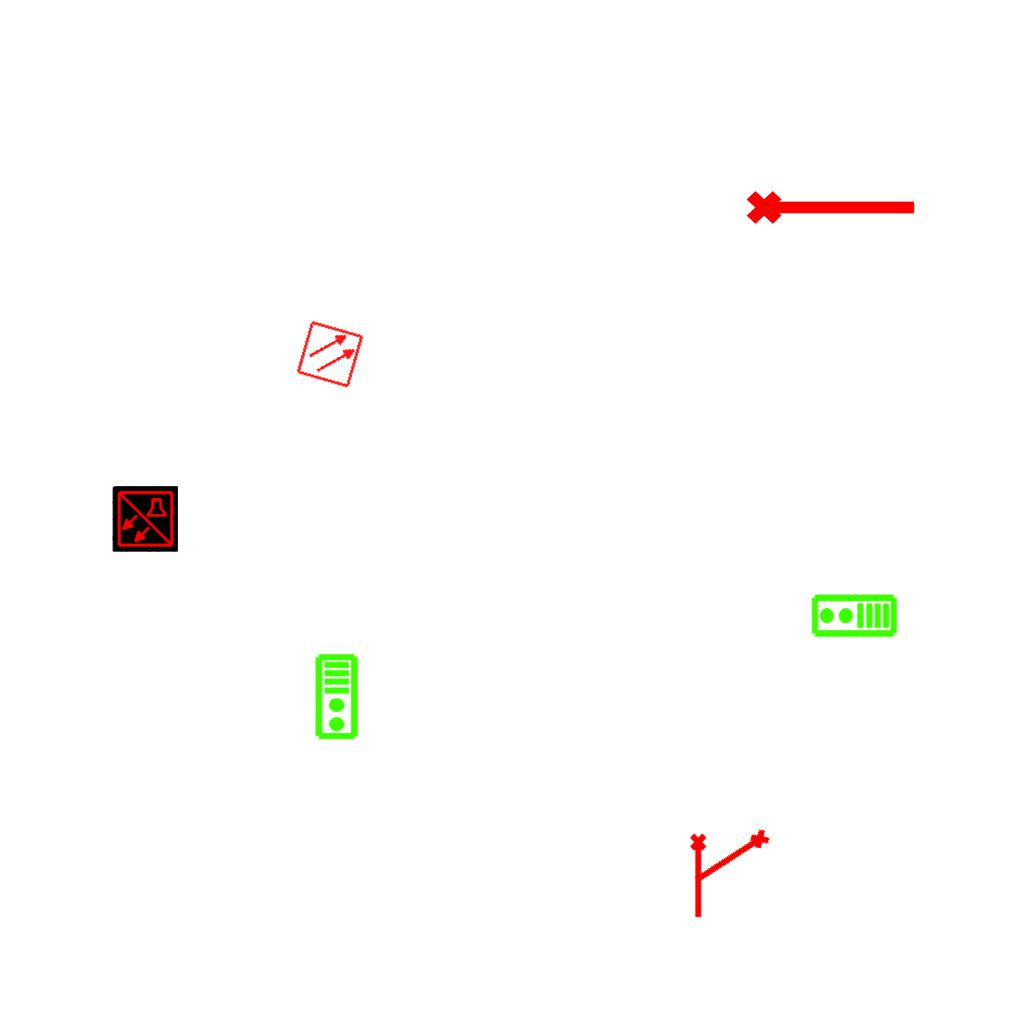ASR_Ansaugoeffnung: (744, 182, 920, 228), (688, 824, 776, 893), (688, 832, 711, 920)
Gegensprechanlage_mit_Video: (810, 593, 898, 640), (314, 653, 361, 741)
OKW_Multisensormelder_(Kombination_optischer_Rauch-Kahlenmonoxid_Waerme-Melder): (112, 486, 178, 552)
RMO_Rauchmelder_optischer: (295, 319, 365, 389)
